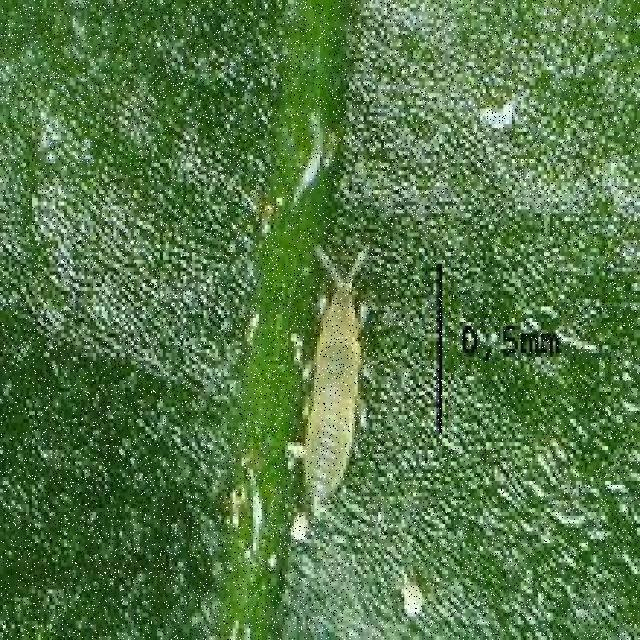Thrips: (257, 205, 411, 527)
